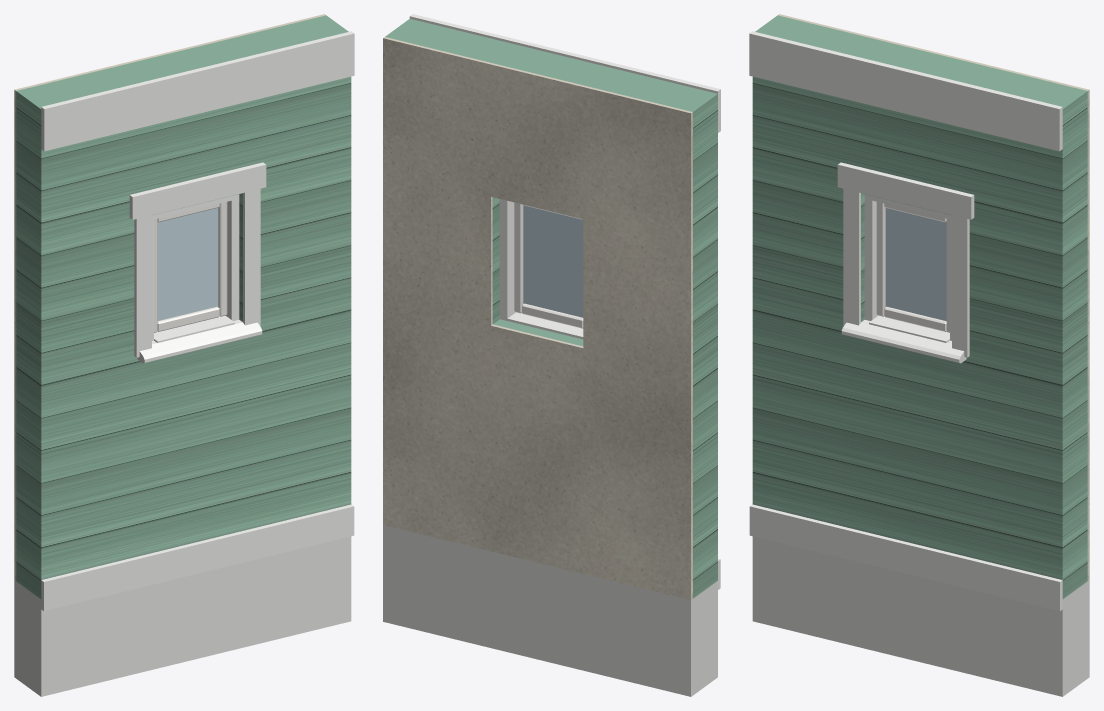
Rendered from wall_c_small.glb.
3 renders of one model, left to right at view 1: azimuth 30°, elevation 25°; view 2: azimuth 150°, elevation 25°; view 3: azimuth 330°, elevation 25°, orthographic.
Visible parts, largest first — view 1: wall_c_small_siding_c, wall_c_small_trim, wall_c_small_lattice, wall_c_small_glass, wall_c_small_sash, wall_c_small_frame, wall_c_small_plaster; view 2: wall_c_small_plaster, wall_c_small_lattice, wall_c_small_siding_c, wall_c_small_glass, wall_c_small_trim, wall_c_small_frame, wall_c_small_sash; view 3: wall_c_small_siding_c, wall_c_small_trim, wall_c_small_lattice, wall_c_small_glass, wall_c_small_sash, wall_c_small_frame, wall_c_small_plaster.
Part boxes in pixels (x1,y1,x2,y2): wall_c_small_siding_c: [16, 15, 351, 599]; wall_c_small_trim: [41, 31, 354, 611]; wall_c_small_lattice: [14, 536, 351, 696]; wall_c_small_glass: [157, 208, 218, 321]; wall_c_small_sash: [154, 202, 227, 332]; wall_c_small_frame: [152, 194, 239, 340]; wall_c_small_plaster: [14, 14, 325, 580]; wall_c_small_plaster: [383, 37, 692, 599]; wall_c_small_lattice: [383, 525, 717, 696]; wall_c_small_siding_c: [385, 19, 717, 598]; wall_c_small_glass: [523, 205, 583, 317]; wall_c_small_trim: [409, 14, 720, 589]; wall_c_small_frame: [499, 199, 515, 320]; wall_c_small_sash: [514, 202, 583, 328]; wall_c_small_siding_c: [752, 15, 1087, 599]; wall_c_small_trim: [749, 31, 1062, 611]; wall_c_small_lattice: [752, 536, 1089, 696]; wall_c_small_glass: [885, 208, 946, 321]; wall_c_small_sash: [876, 202, 949, 332]; wall_c_small_frame: [864, 194, 951, 340]; wall_c_small_plaster: [778, 14, 1089, 580].
Size of the model in its own units: 2 by 3.63 by 0.38.
7 materials, 2 textured.
